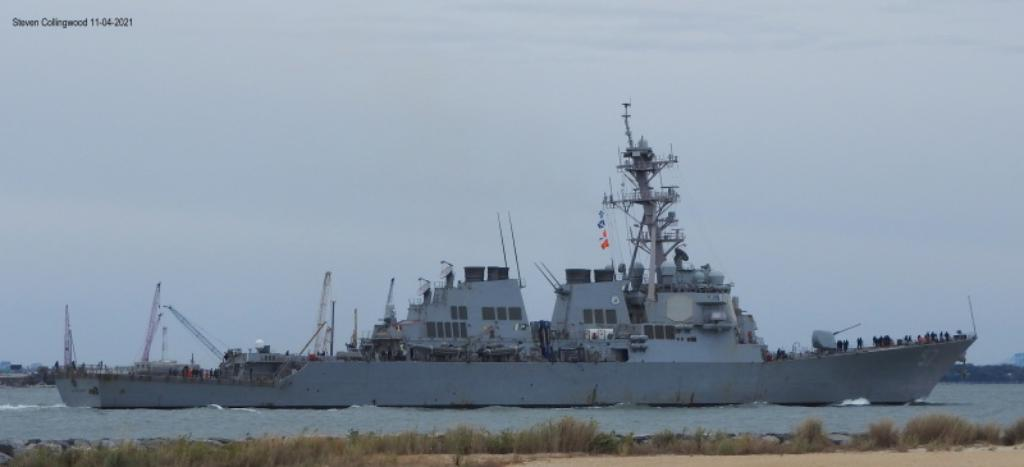Warship: (49, 98, 977, 412)
